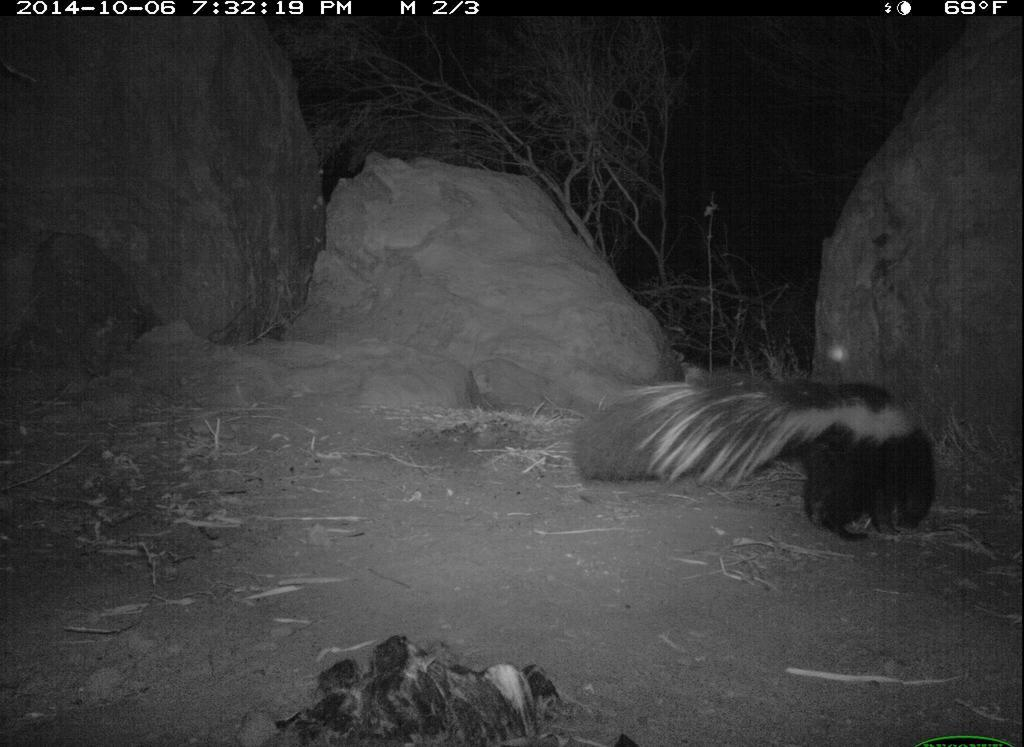skunk: (575, 365, 941, 545)
